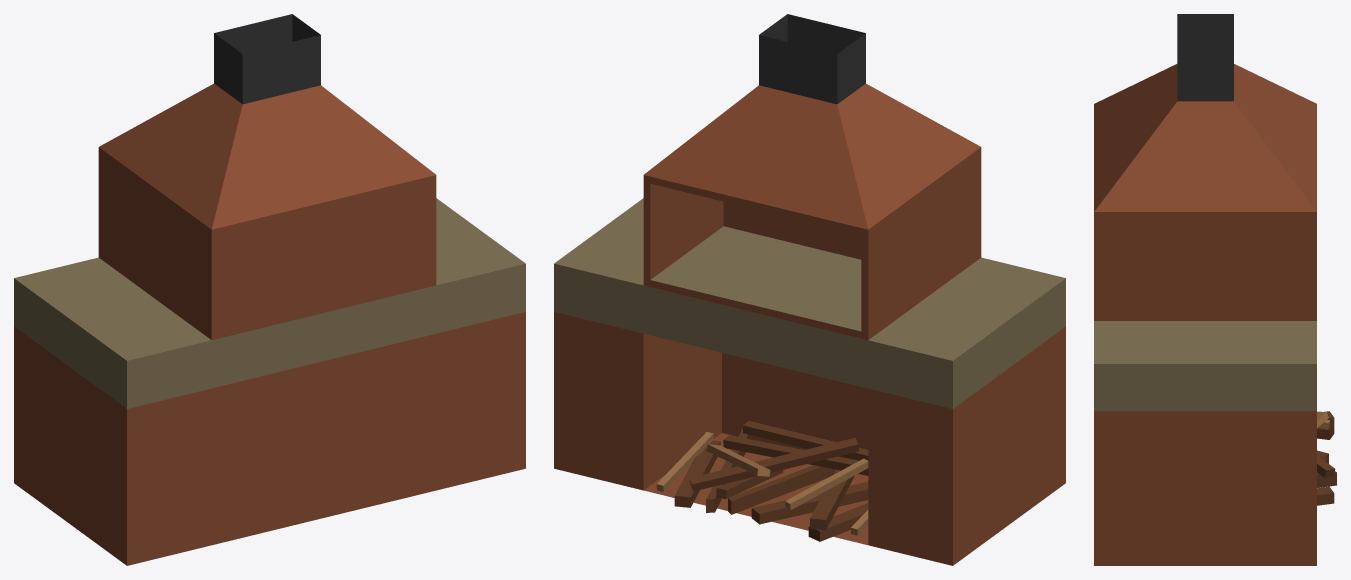
File: FireOven.fbx
3 views of the same model, side by side, from view 1: azimuth 30°, elevation 25°; view 2: azimuth 150°, elevation 25°; view 3: azimuth 270°, elevation 25° (orthographic).
Visible parts, largest first — view 1: Cube; view 2: Cube; view 3: Cube.
Boxes of the visible parts, x1,y1,x2,y2 form: Cube: (14,14,525,565); Cube: (554,14,1065,565); Cube: (1094,14,1336,565).
Bounding box in the file's own units: 4.07 × 4.32 × 2.18.
